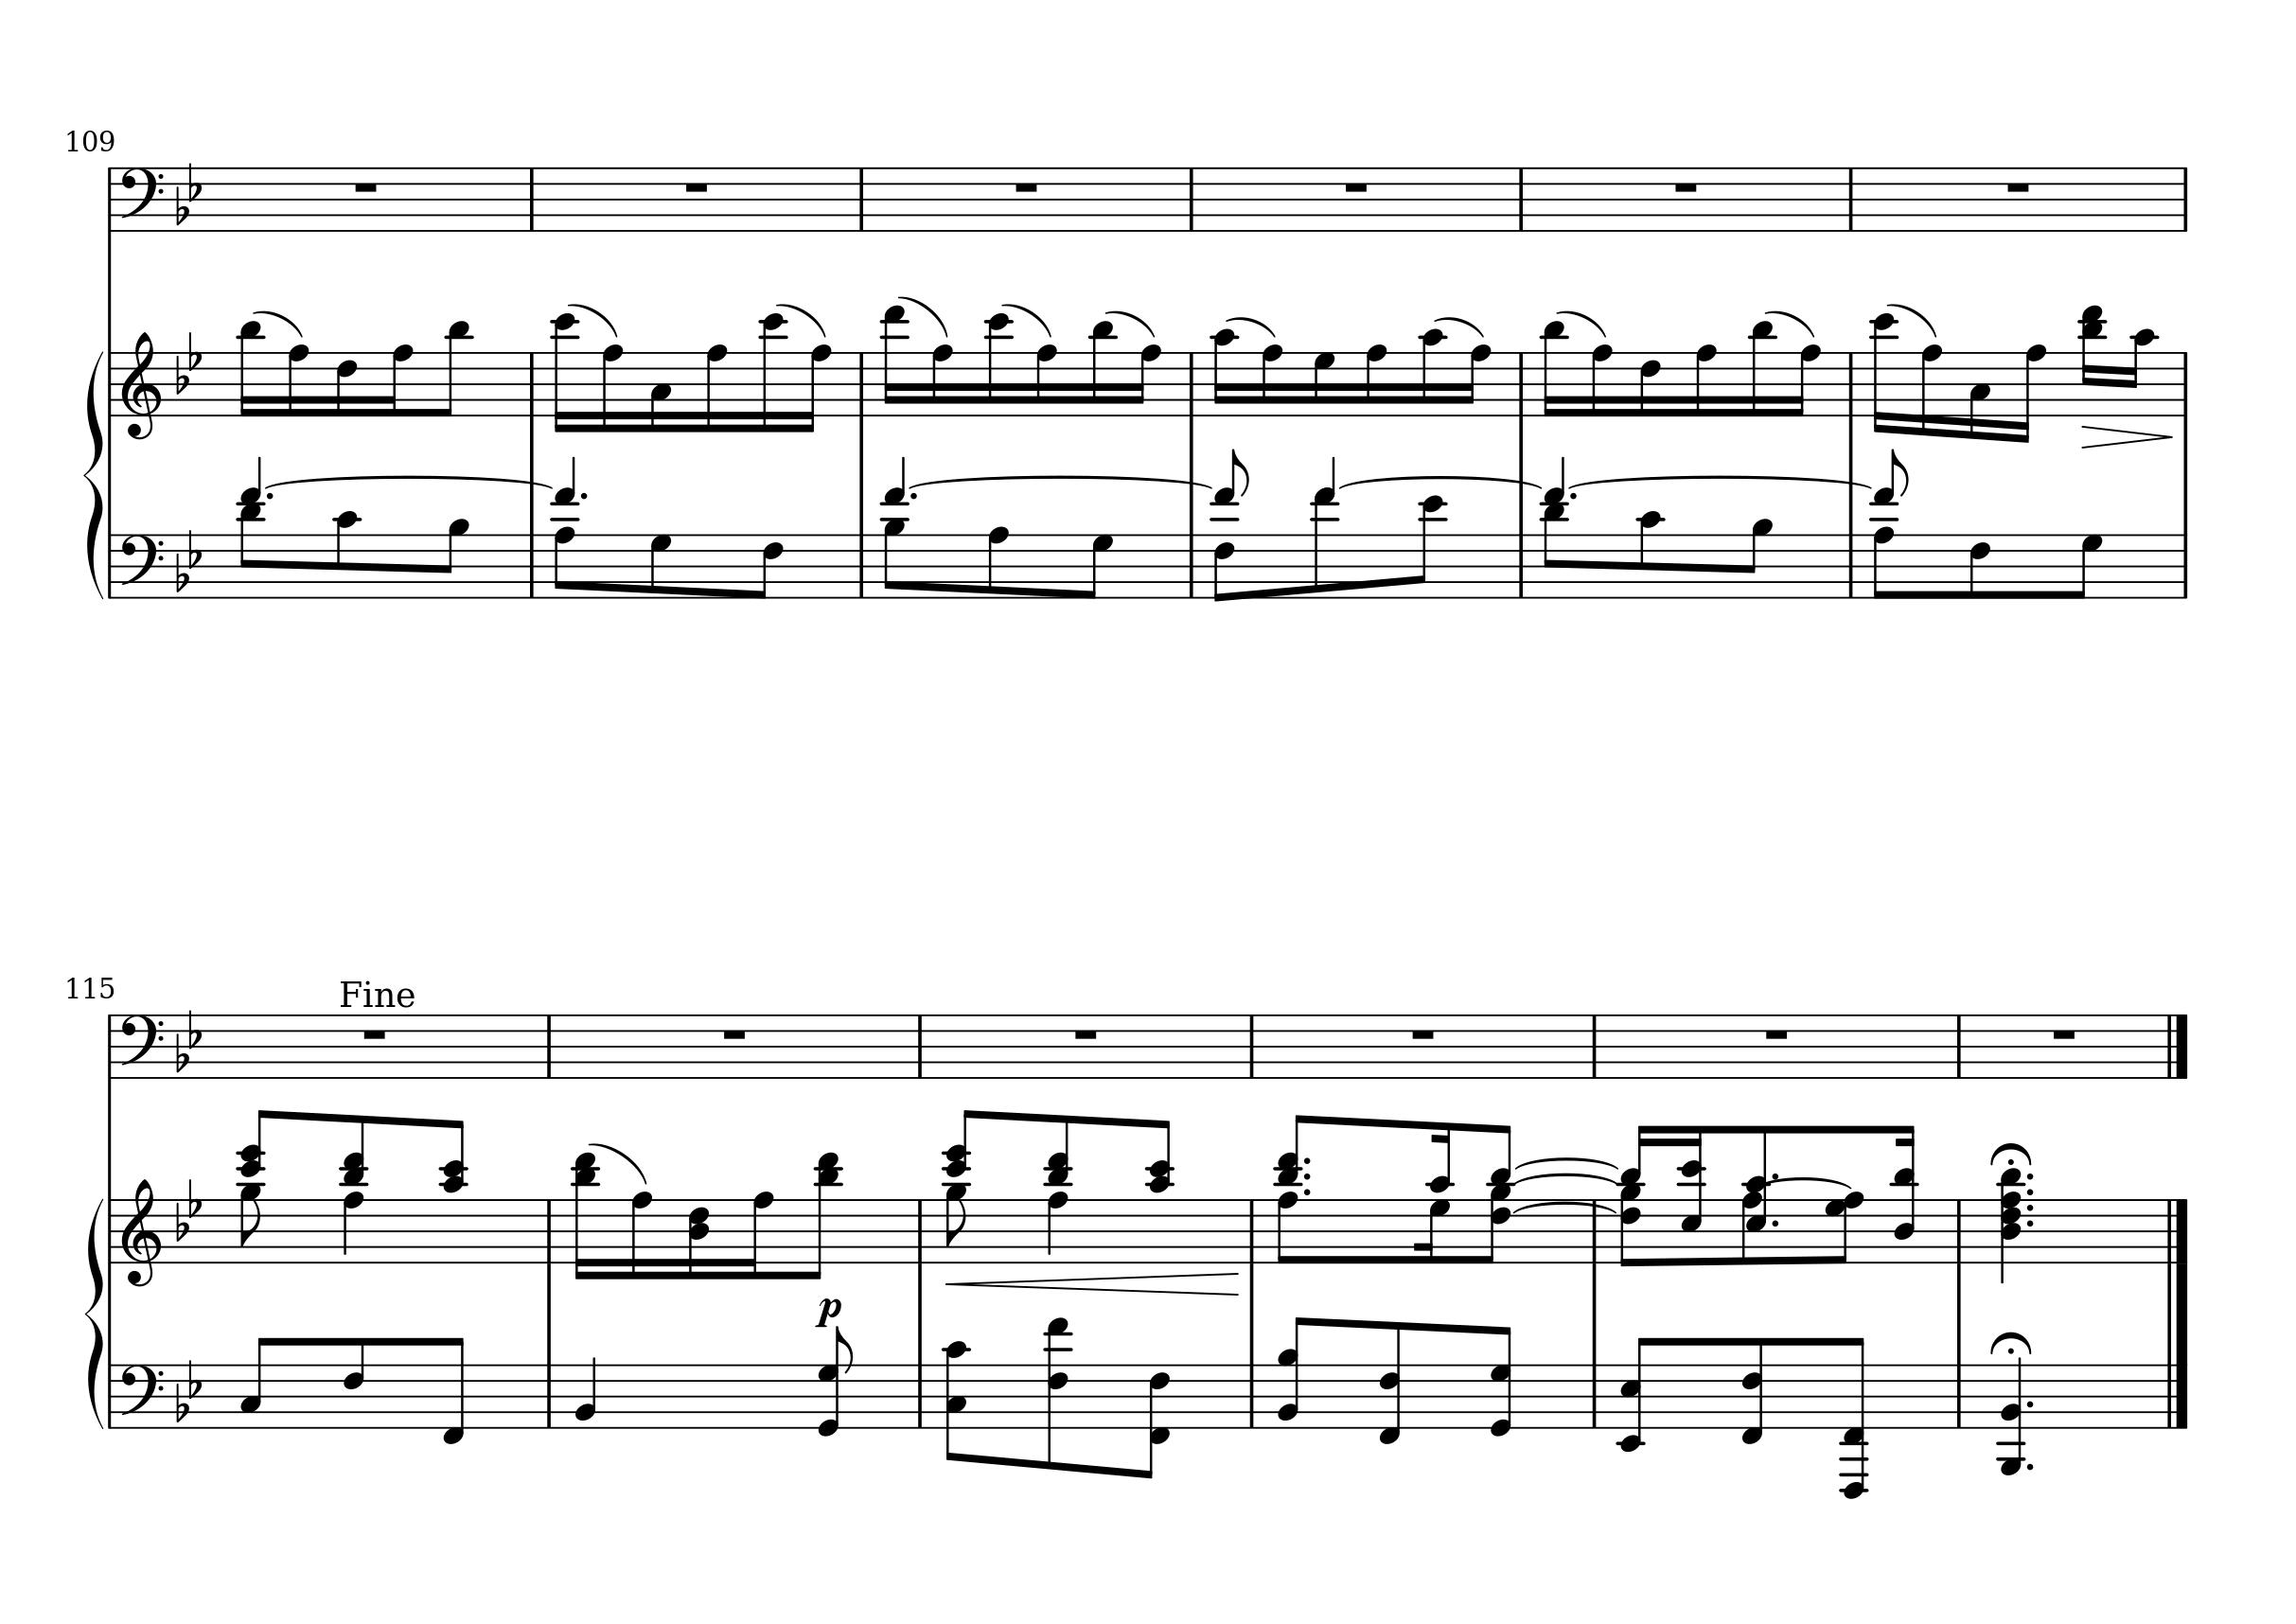0: (81, 127, 98, 153)
1: (65, 974, 81, 1002), (65, 127, 79, 155), (83, 974, 95, 1002)
16_10: (2126, 327, 2155, 418), (1419, 327, 1448, 420), (1210, 327, 1238, 418)
16_11: (1541, 318, 1569, 420), (1089, 318, 1116, 420), (1750, 318, 1776, 420), (237, 320, 264, 420)
16_11_13: (571, 1149, 597, 1285)
16_12: (553, 311, 580, 434), (761, 311, 787, 434), (1873, 311, 1899, 434), (986, 311, 1014, 417)
16_13: (882, 304, 908, 418)
16_3: (1967, 350, 1992, 443), (648, 350, 673, 434)
16_4_11: (1895, 1123, 1922, 1264)
16_4_6: (685, 1197, 713, 1281)
16_6: (336, 350, 358, 420), (1639, 350, 1662, 420)
16_7: (1310, 350, 1335, 420)
16_7_10: (1418, 1121, 1455, 1264)
16_8: (2011, 343, 2047, 445), (740, 1190, 775, 1281), (799, 343, 831, 434), (1130, 343, 1163, 418), (1788, 343, 1822, 418), (1460, 341, 1491, 418), (1920, 343, 1945, 439), (381, 343, 413, 417), (601, 343, 625, 436), (704, 343, 729, 436), (629, 1188, 653, 1281), (1693, 343, 1718, 420), (286, 343, 311, 418), (1260, 343, 1284, 418), (1363, 343, 1388, 418), (1590, 343, 1614, 418), (931, 343, 954, 420), (1035, 343, 1058, 418)
4_-5_2: (1996, 1360, 2029, 1475)
4_2: (573, 1355, 599, 1431)
4_4th: (1996, 1165, 2024, 1285)
4_8: (341, 1190, 365, 1265), (1045, 1190, 1070, 1264)
5: (98, 974, 114, 1000)
8_-1: (439, 1334, 467, 1445)
8_-1_6: (1135, 1362, 1170, 1482), (1375, 1320, 1405, 1448), (1739, 1336, 1767, 1446)
8_-2_5: (1616, 1336, 1657, 1454)
8_-8_-1: (1838, 1336, 1871, 1501)
8_0_7: (817, 1325, 854, 1436), (1488, 1322, 1514, 1439)
8_10: (334, 510, 358, 601), (1637, 510, 1662, 599)
8_10_12: (436, 1118, 469, 1264), (1145, 1118, 1177, 1264)
8_11: (434, 318, 469, 418)
8_11_13: (805, 1151, 843, 1280)
8_12: (1411, 494, 1446, 599)
8_13: (1312, 489, 1337, 603)
8_13_15: (2078, 302, 2106, 420)
8_2_9: (1275, 1316, 1305, 1429)
8_3: (237, 1336, 271, 1429)
8_3_10: (942, 1339, 973, 1462)
8_6: (341, 1334, 365, 1431), (752, 533, 783, 599), (1212, 533, 1237, 603), (1969, 533, 1992, 599)
8_7: (1082, 533, 1114, 599), (2071, 533, 2103, 599), (648, 533, 673, 599)
8_8: (1275, 1190, 1302, 1265), (552, 524, 576, 599), (986, 526, 1008, 599)
8_8_13: (1871, 446, 1913, 601), (1042, 1313, 1075, 1473)
8_9: (437, 517, 469, 599), (1741, 517, 1773, 599), (237, 1181, 264, 1264), (943, 1183, 970, 1265), (882, 517, 906, 599)
8_th: (942, 1104, 977, 1264), (237, 1107, 272, 1264), (1275, 1107, 1303, 1264)
9: (98, 127, 116, 153)
B_F: (174, 329, 204, 397), (174, 162, 204, 228), (174, 527, 204, 594), (174, 1007, 204, 1072), (174, 1176, 204, 1241), (174, 1357, 204, 1422)
Brace: (83, 344, 105, 596), (84, 1193, 105, 1432)
Crescendo_hairpin: (943, 1269, 1240, 1297)
Diminuendo_hairpin: (2080, 424, 2175, 450)
Fclef: (116, 165, 165, 232), (118, 1012, 165, 1079), (118, 1360, 165, 1427), (118, 533, 163, 599)
Fermata_above: (1989, 1141, 2032, 1167), (1989, 1329, 2032, 1355)
Final_barline: (2164, 1012, 2191, 1077), (2164, 1197, 2191, 1262), (2164, 1362, 2189, 1427)
Gclef: (119, 1176, 165, 1287), (119, 329, 162, 439)
Rests1: (2048, 1025, 2082, 1044), (718, 1025, 750, 1042), (2003, 178, 2032, 195), (360, 1025, 390, 1042), (1409, 1025, 1439, 1042), (1762, 1025, 1792, 1042), (350, 179, 381, 195), (1010, 179, 1042, 195), (1340, 179, 1372, 195), (1070, 1026, 1101, 1042), (682, 179, 711, 195), (1671, 179, 1700, 195)
Single_barline: (522, 352, 543, 417), (1180, 352, 1202, 417), (1511, 534, 1532, 598), (1841, 534, 1862, 598), (1586, 1200, 1607, 1262), (852, 352, 871, 417), (1513, 352, 1532, 417), (523, 534, 543, 598), (852, 534, 871, 598), (1182, 534, 1202, 598), (1585, 1014, 1604, 1077), (1244, 1199, 1263, 1262), (912, 1364, 931, 1427), (522, 169, 541, 230), (1242, 1364, 1261, 1425), (1843, 352, 1860, 417), (1182, 167, 1200, 230), (912, 1014, 929, 1077), (541, 1199, 559, 1262), (912, 1199, 929, 1262), (1950, 1199, 1967, 1262), (541, 1364, 559, 1427), (1586, 1364, 1604, 1427), (852, 169, 870, 230), (1513, 169, 1530, 230), (1950, 1014, 1967, 1076), (1950, 1364, 1967, 1425), (102, 167, 118, 232), (104, 352, 119, 417), (2177, 167, 2192, 230), (2177, 352, 2192, 415), (2177, 534, 2192, 598), (102, 1014, 118, 1077), (541, 1014, 557, 1077), (1244, 1014, 1260, 1077), (1843, 169, 1859, 230), (105, 1199, 119, 1264), (105, 1362, 119, 1427), (105, 534, 119, 598)
Slur: (1569, 473, 1880, 490), (905, 473, 1217, 489), (269, 475, 555, 490), (1342, 475, 1546, 492), (588, 1139, 650, 1186), (898, 292, 950, 339), (1003, 301, 1056, 339), (1887, 301, 1939, 339), (569, 301, 618, 339), (778, 301, 827, 337), (1509, 1199, 1621, 1214), (1105, 308, 1156, 339), (1556, 308, 1607, 337), (1765, 309, 1816, 339), (1513, 1171, 1621, 1183), (1516, 1155, 1618, 1167), (256, 311, 300, 337), (1228, 315, 1277, 337), (1437, 315, 1484, 337), (1767, 1176, 1853, 1188), (1757, 1172, 1802, 1183)
dot: (578, 489, 590, 503), (908, 489, 921, 503), (1567, 489, 1579, 503), (2024, 1214, 2036, 1229), (264, 490, 276, 503), (1302, 1185, 1314, 1197), (1769, 1216, 1781, 1229), (2024, 1396, 2034, 1410), (2024, 1186, 2036, 1197), (2024, 1202, 2036, 1213), (2024, 1461, 2036, 1471), (1302, 1155, 1312, 1165), (1302, 1169, 1312, 1179), (1769, 1171, 1780, 1179), (2025, 1171, 2034, 1179)
p: (812, 1294, 843, 1327)
